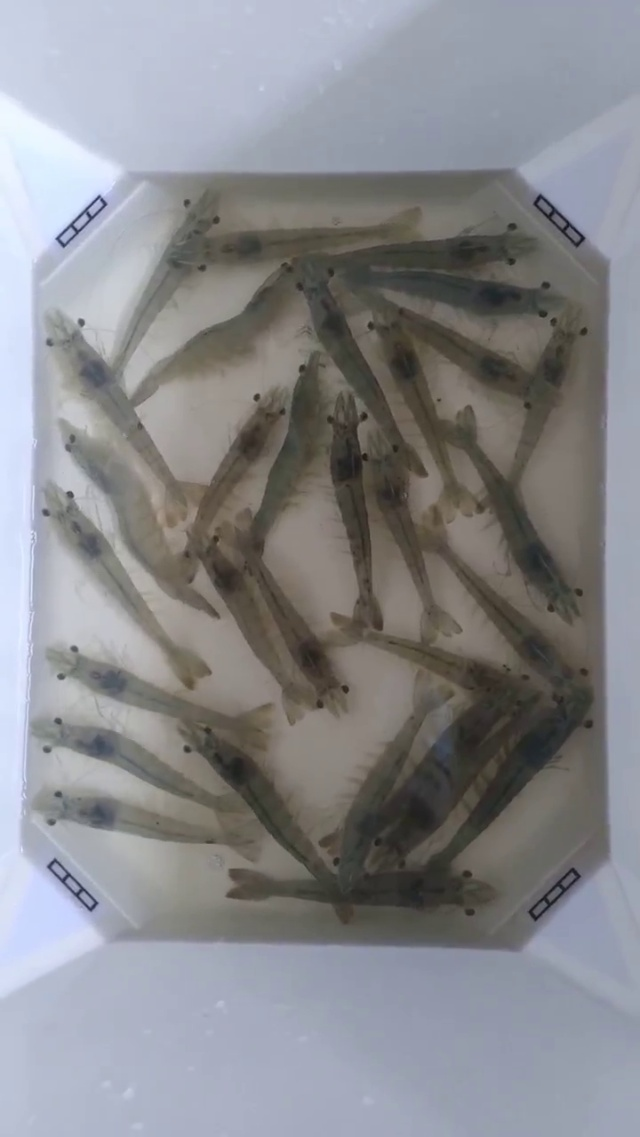shrimp: (544, 178, 639, 557), (555, 444, 639, 752), (312, 302, 426, 495), (71, 337, 186, 526), (30, 562, 136, 723), (111, 431, 203, 608), (443, 406, 535, 583), (440, 173, 552, 316), (121, 190, 218, 354), (34, 204, 136, 355), (36, 650, 155, 778), (405, 803, 513, 944), (250, 352, 325, 551), (330, 211, 449, 336), (124, 675, 230, 808), (33, 721, 154, 836), (502, 224, 593, 367), (384, 638, 504, 745), (42, 482, 132, 605), (291, 786, 370, 923), (282, 614, 366, 723), (0, 223, 35, 484)
